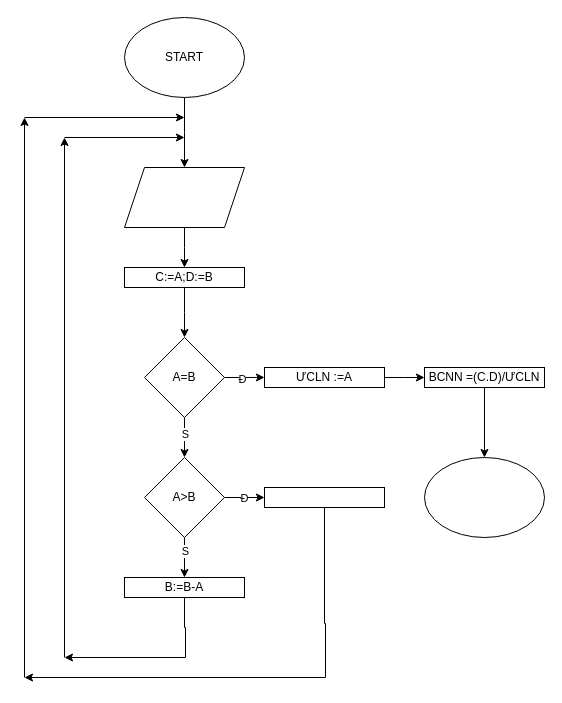
The diagram is 562 pixels wide and 703 high, and some of its shapes have lost their labels. The centre of each missing label's shape, as x and y in pixels:
"A:=A-B" goes at (x=324, y=497).
"END" goes at (x=484, y=497).
"NHẬP A,B" goes at (x=184, y=197).
